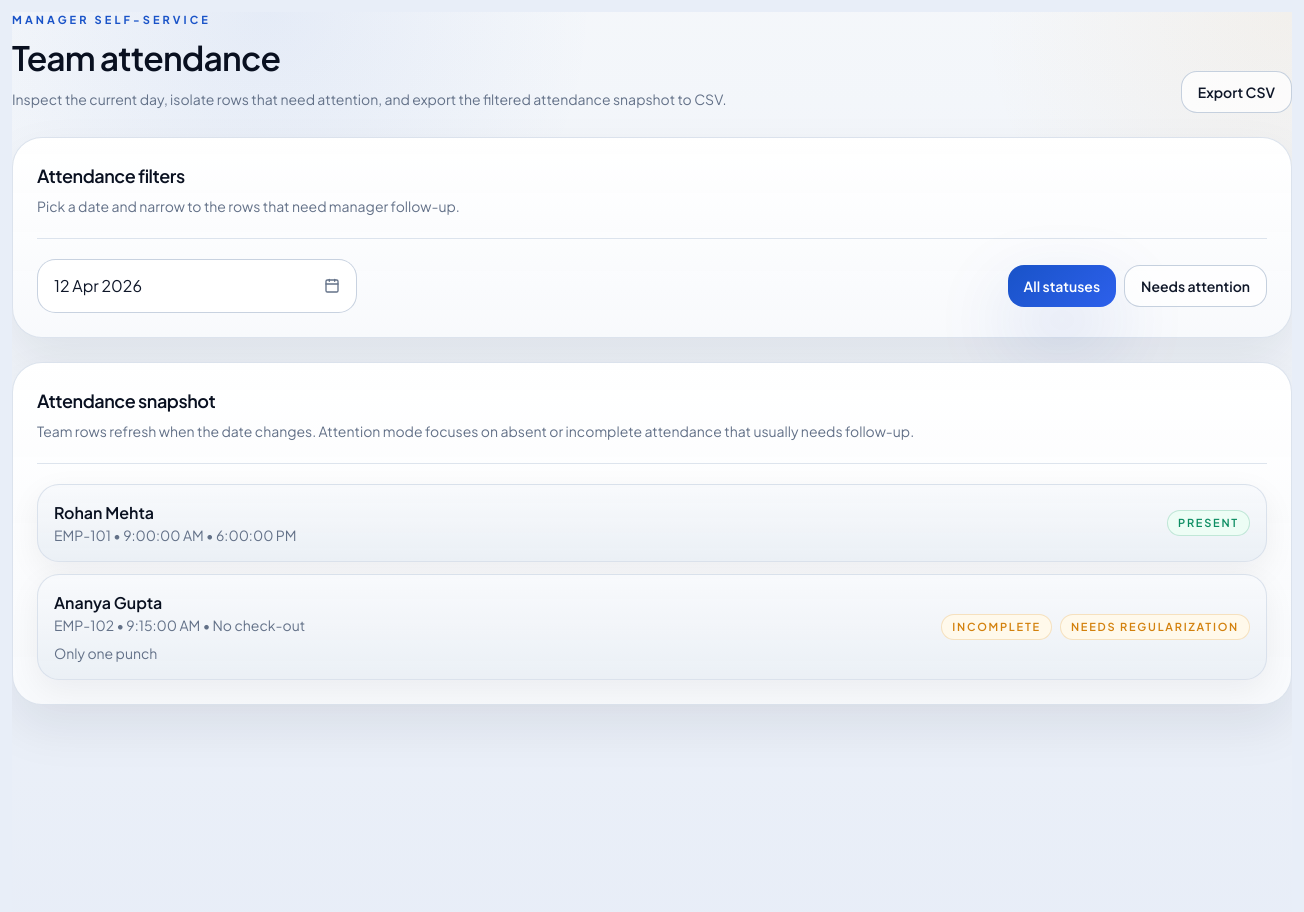
Scenario: MyTeamAttendancePage › filters the table to rows that need attention
Step 1. Click the button "Needs attention" → x=1196, y=286, box [1124,265,1267,307]
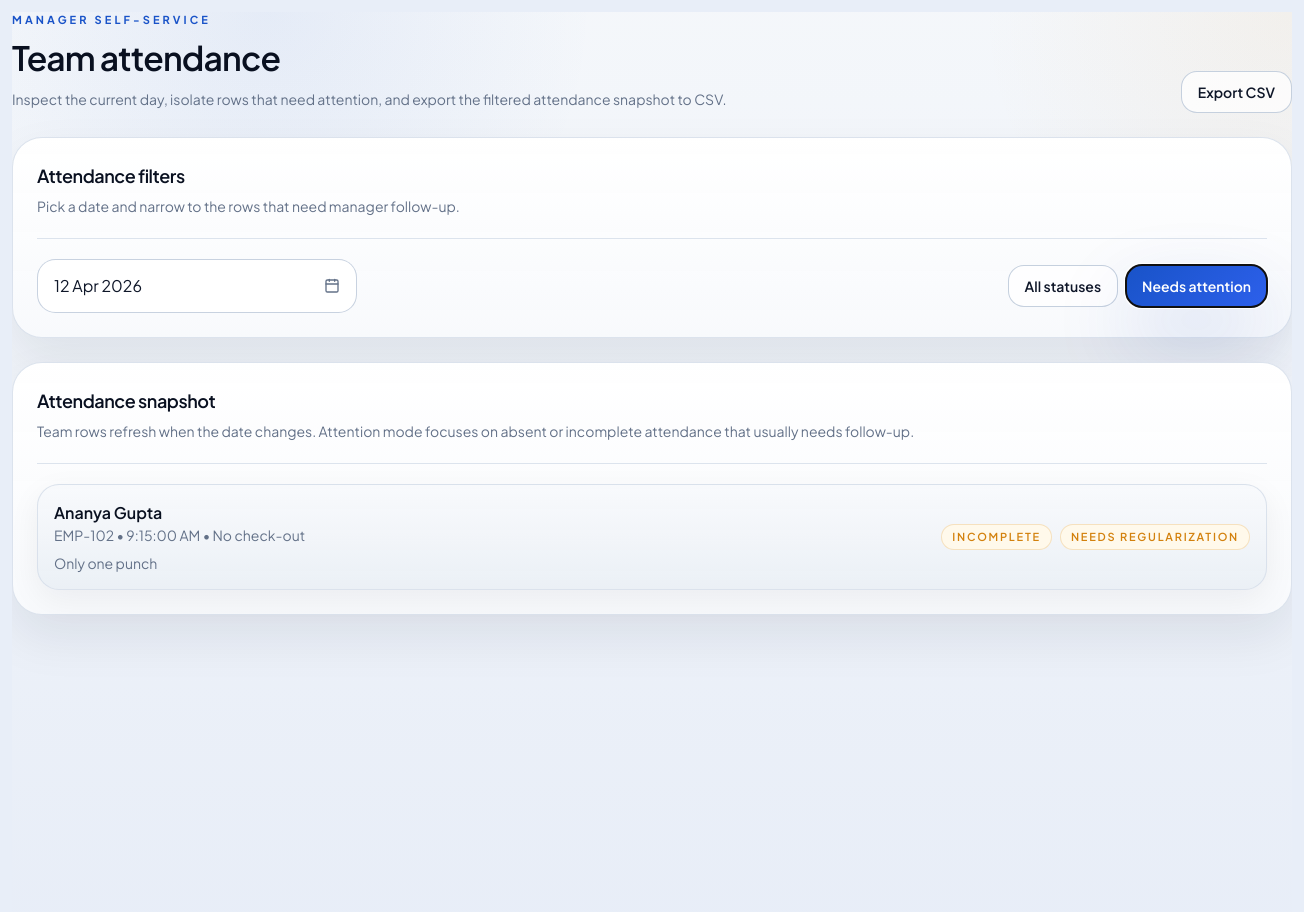
Expected: the text "Ananya Gupta" is shown, [54,502,162,523]
Expected: the text "Rohan Mehta" is gone
